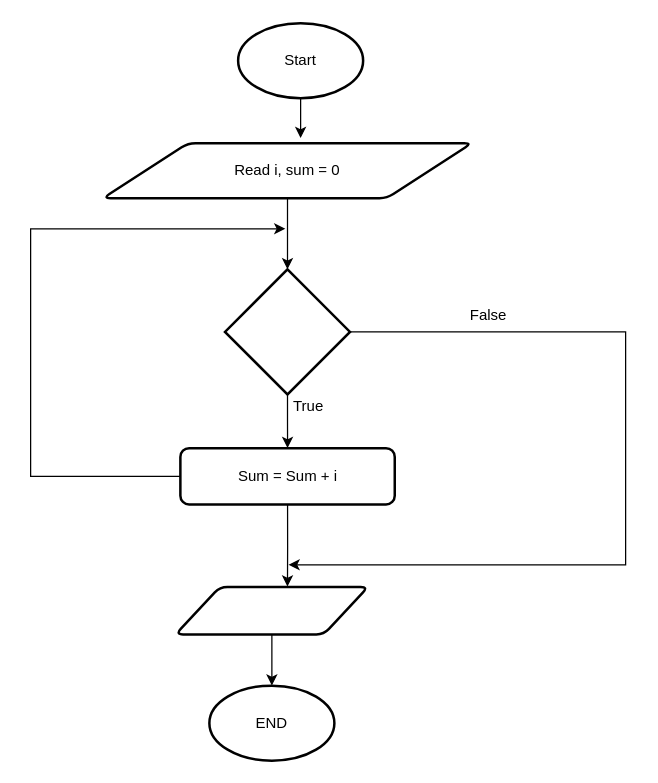
Image size: 658x783. Some labels were removed from this diagram. The shapes that lost their labels are listed below. From the top down, each one's centre as x and y in pixels, then its label:
At pixel 287 331: "Is i >=0".
At pixel 271 610: "Print (Sum)".
